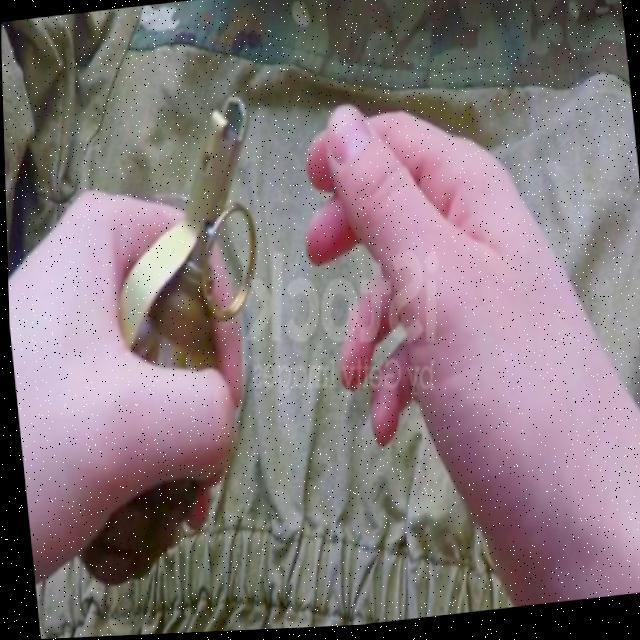grenade: (21, 77, 306, 616)
